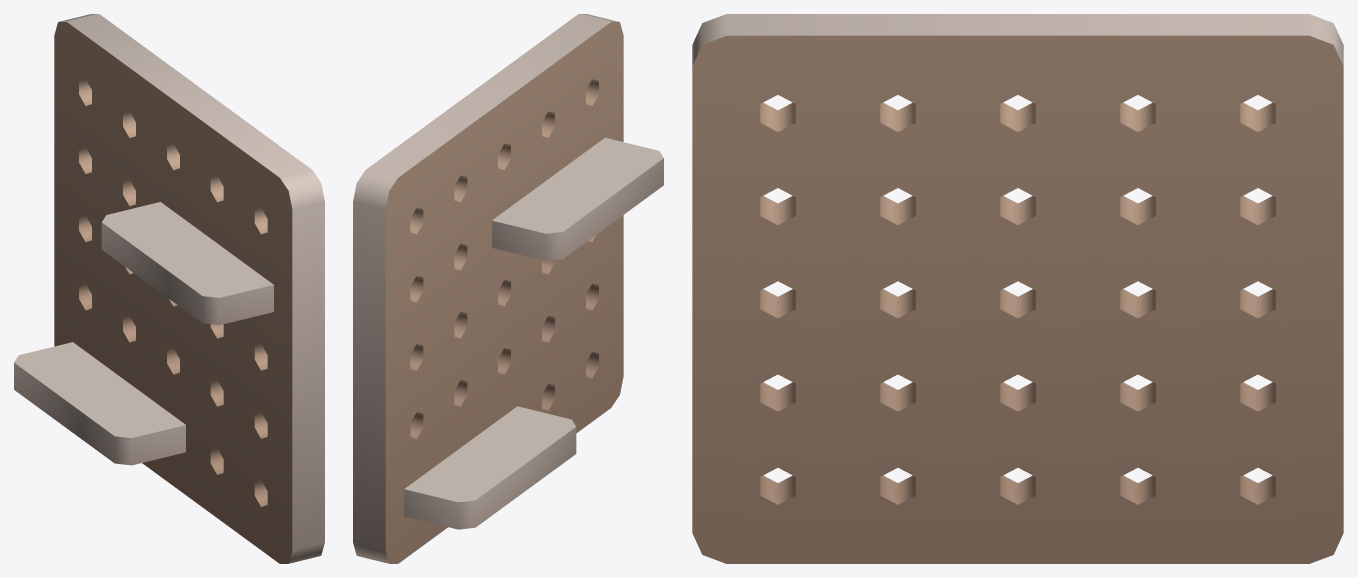
File: pegboard-wide-shelves (%wall).glb
3 renders of one model, left to right at view 1: azimuth 30°, elevation 25°; view 2: azimuth 150°, elevation 25°; view 3: azimuth 270°, elevation 25°, orthographic. The views are drawn at different scales.
Parts seen in each view (by area): view 1: pegboard-wide-shelves (%wall); view 2: pegboard-wide-shelves (%wall); view 3: pegboard-wide-shelves (%wall).
Boxes of the visible parts, box(x1,y1,x2,y2) form: pegboard-wide-shelves (%wall): box(14, 14, 324, 563); pegboard-wide-shelves (%wall): box(353, 14, 663, 563); pegboard-wide-shelves (%wall): box(692, 14, 1343, 563).
Size of the model in its own units: 0.225 by 0.85 by 0.95.
